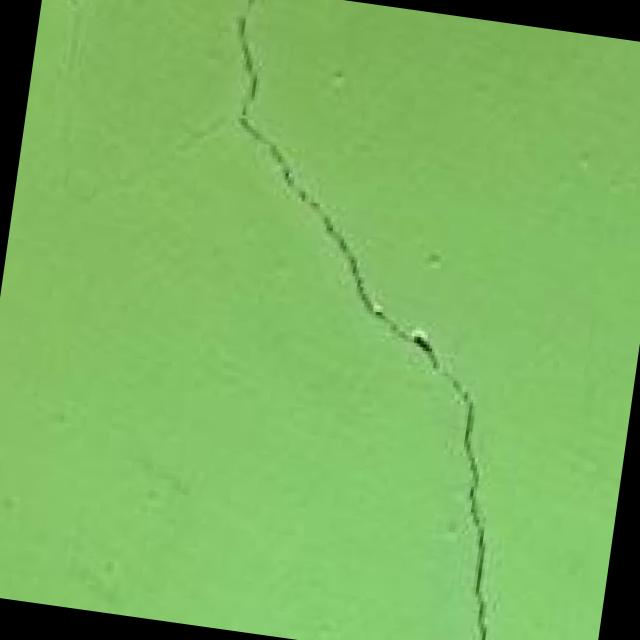crack: (130, 0, 595, 640)
